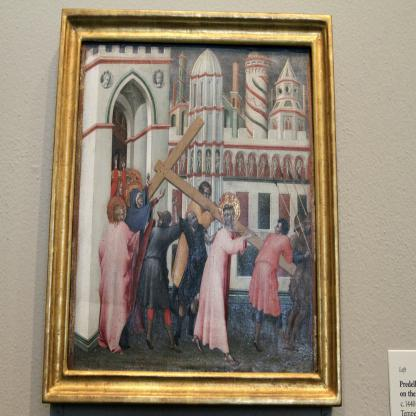Picture-frame: (47, 11, 345, 416)
